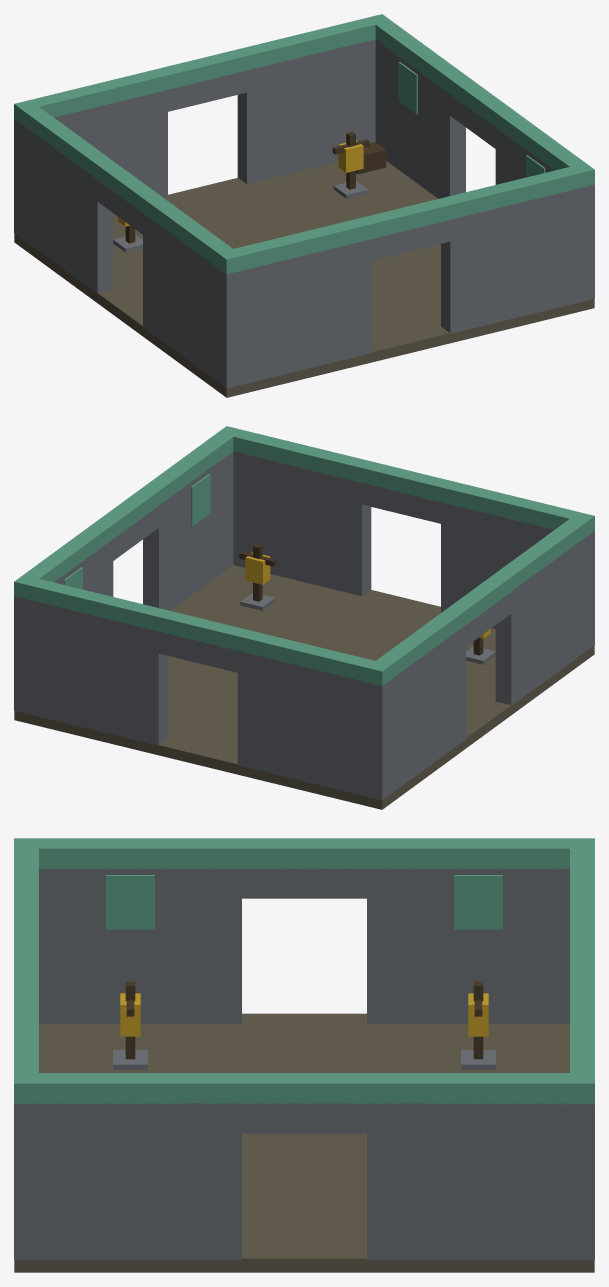
The model's file is ArmouredCourtyard.fbx.
The picture shows the model from 3 angles, top to bottom: view 1: azimuth 30°, elevation 25°; view 2: azimuth 150°, elevation 25°; view 3: azimuth 270°, elevation 25°; orthographic projection. The views are drawn at different scales.
Visible parts, largest first — view 1: ArmouredCourtyard; view 2: ArmouredCourtyard; view 3: ArmouredCourtyard.
Part boxes in pixels (x1,y1,x2,y2): ArmouredCourtyard: (14, 14, 594, 397); ArmouredCourtyard: (14, 426, 594, 809); ArmouredCourtyard: (14, 838, 594, 1272).
Bounding box in the file's own units: 1202 × 432 × 1202.
Materials: 5 (5 with a texture image).
